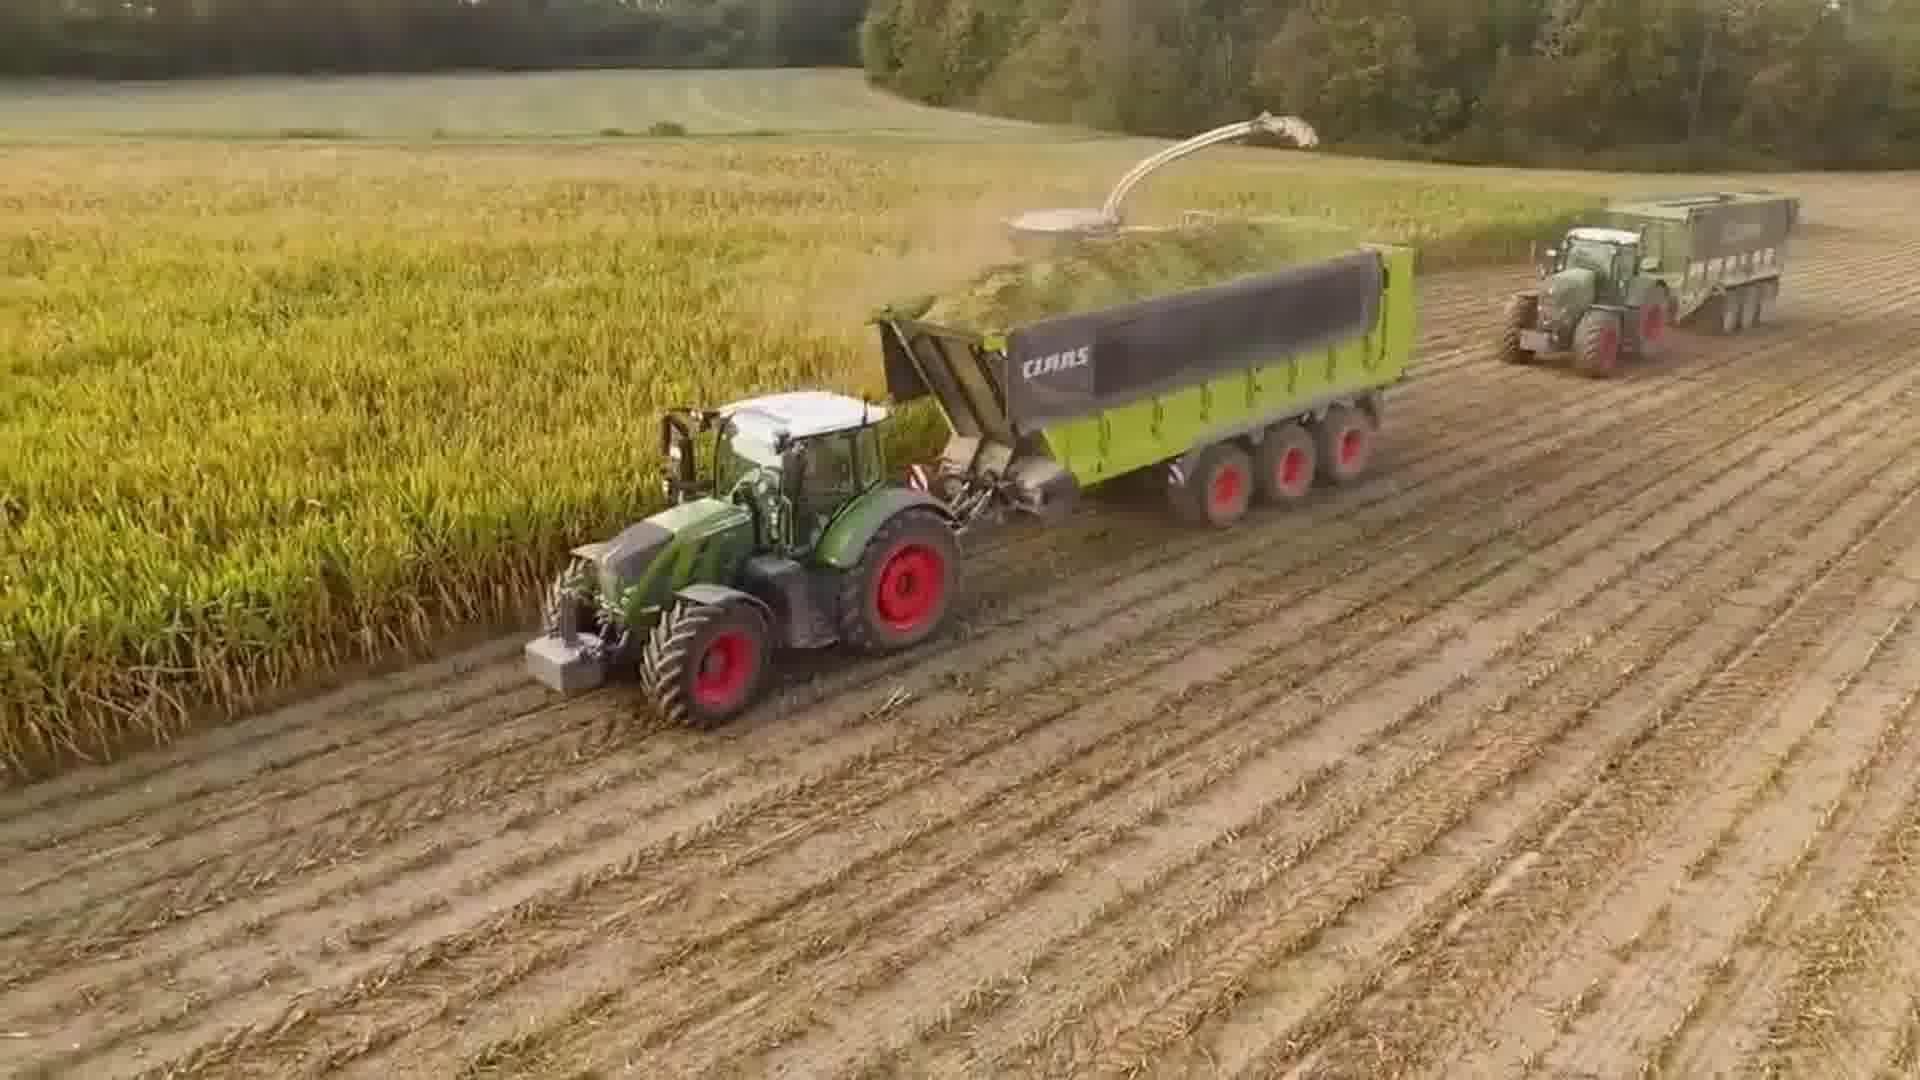combine harvester: (987, 103, 1326, 256)
tractor: (514, 380, 966, 741), (1494, 223, 1677, 384)
trailer: (861, 209, 1423, 530), (1597, 180, 1800, 339)
